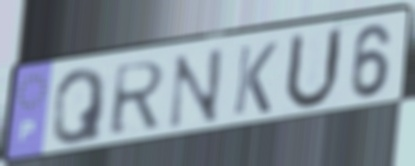6: (349, 21, 396, 101)
K: (230, 40, 280, 118)
N: (164, 45, 226, 133)
Q: (49, 66, 110, 148)
R: (107, 58, 169, 140)
U: (280, 25, 346, 114)
